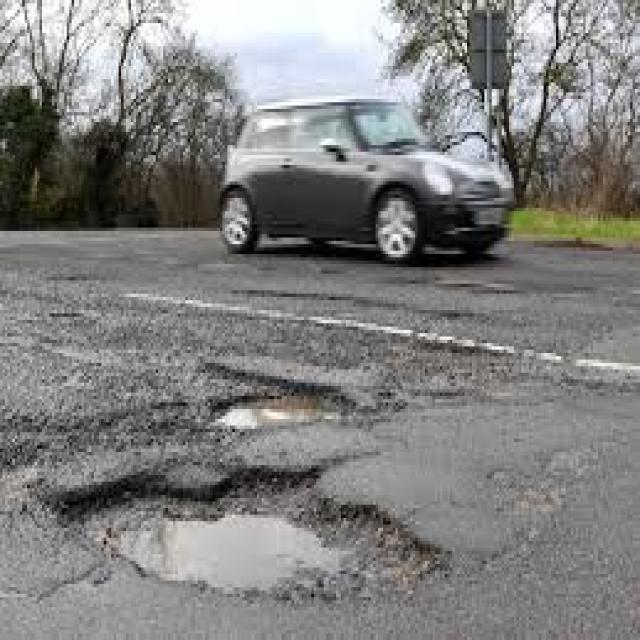Pothole: (42, 472, 447, 604), (222, 386, 351, 432)
